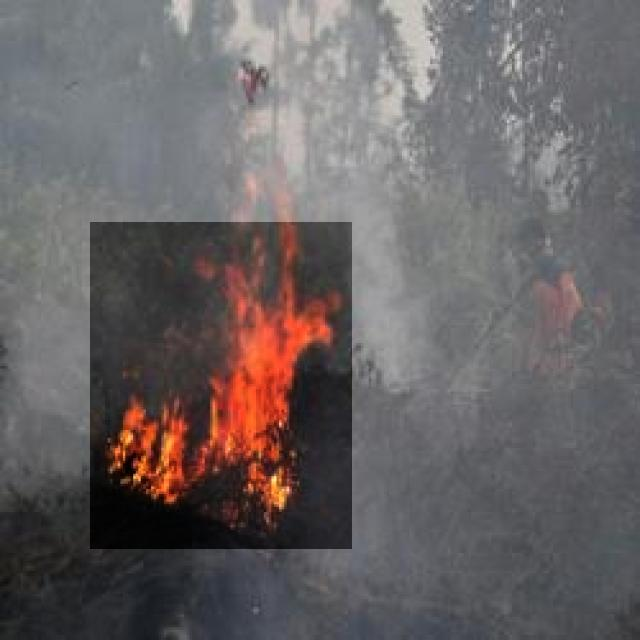Fire: (90, 222, 352, 549)
